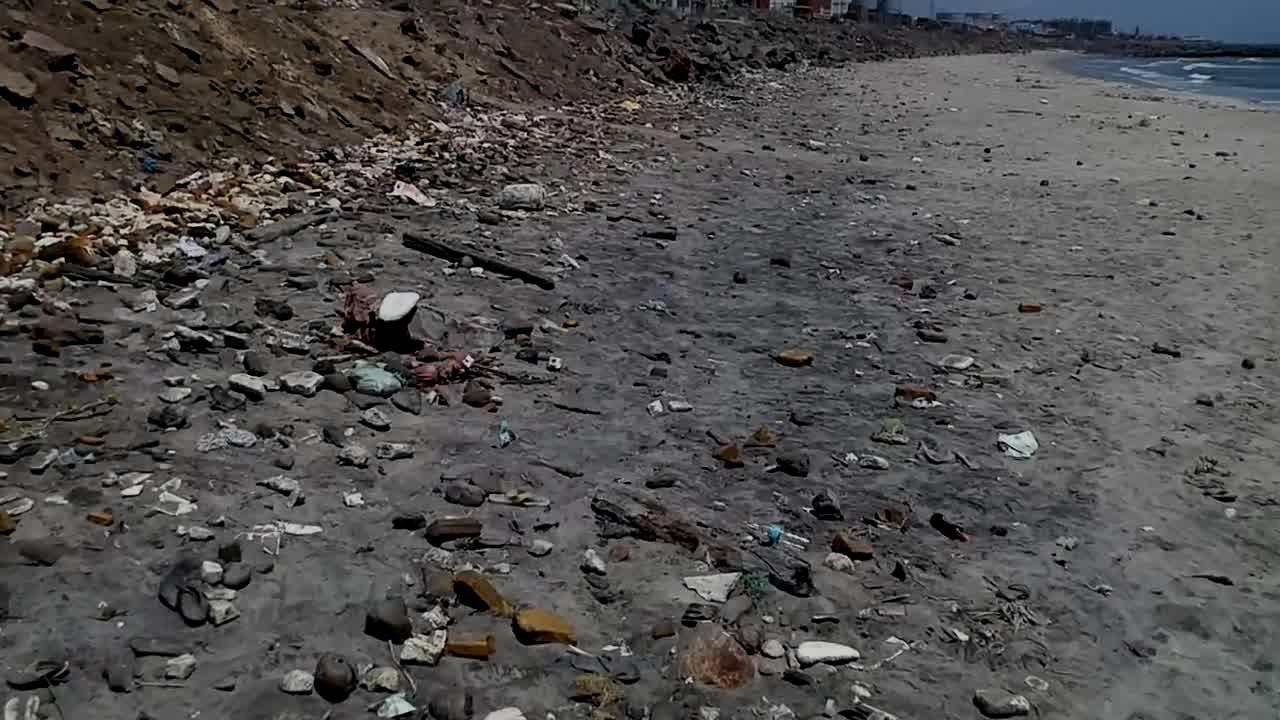large collection of objects: (0, 104, 577, 328)
obj: (589, 481, 811, 596), (402, 234, 561, 292), (156, 576, 212, 632), (225, 370, 321, 401), (359, 597, 422, 644), (360, 669, 417, 719), (314, 650, 366, 704), (339, 275, 382, 340), (396, 612, 448, 660), (510, 610, 579, 646), (409, 349, 476, 386), (203, 558, 236, 625), (2, 657, 69, 689), (749, 521, 813, 553), (375, 288, 420, 332), (972, 684, 1032, 714), (354, 369, 404, 402), (447, 626, 494, 660), (796, 643, 870, 663), (997, 429, 1038, 461), (771, 450, 814, 478), (633, 224, 686, 243), (489, 492, 552, 507), (813, 491, 846, 518), (834, 535, 870, 559), (770, 347, 811, 365), (716, 446, 744, 470), (749, 424, 778, 444), (484, 709, 535, 719), (1020, 302, 1042, 316)
sand/background: (0, 0, 1279, 315)
